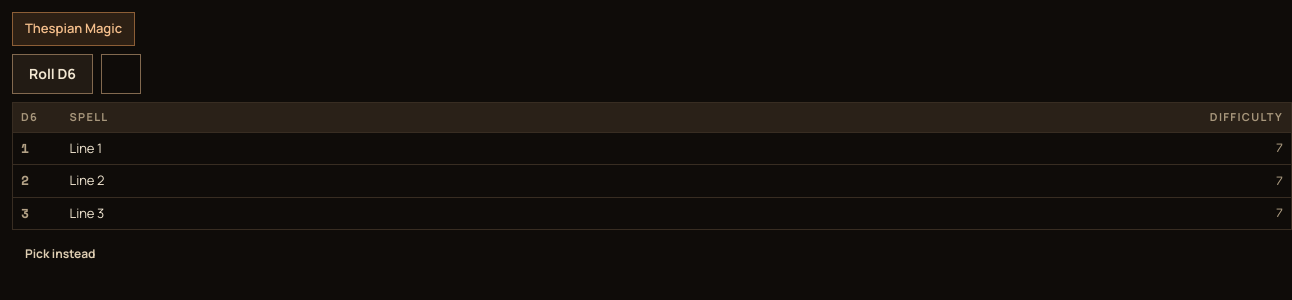
A lore shorter than its die › rolls again on a result with no spell, and says so of a typed one
Click the button "Roll D6" at point(53, 74), box left=12, top=54, right=93, bottom=94
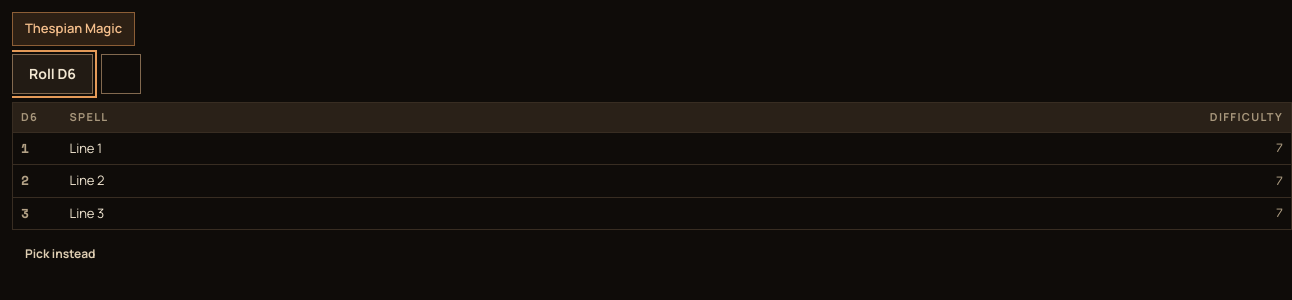
Expected: the text "roll again" is not shown
Type "6" into the field named "D6 rolled" at point(121, 74), box left=101, top=54, right=141, bottom=94
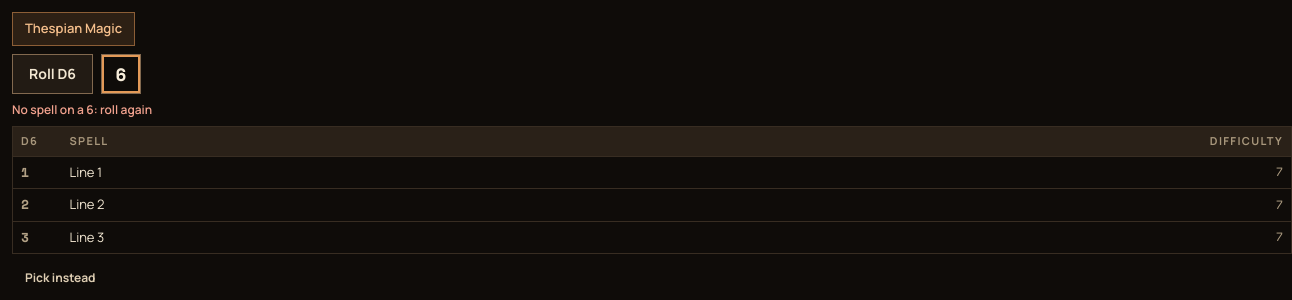
Now the text "No spell on a 6: roll again" is shown, box left=12, top=101, right=152, bottom=118
